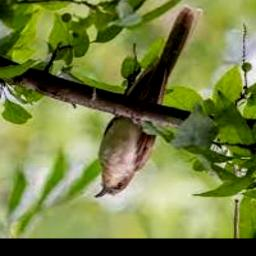Cuckoo: (93, 5, 204, 199)
